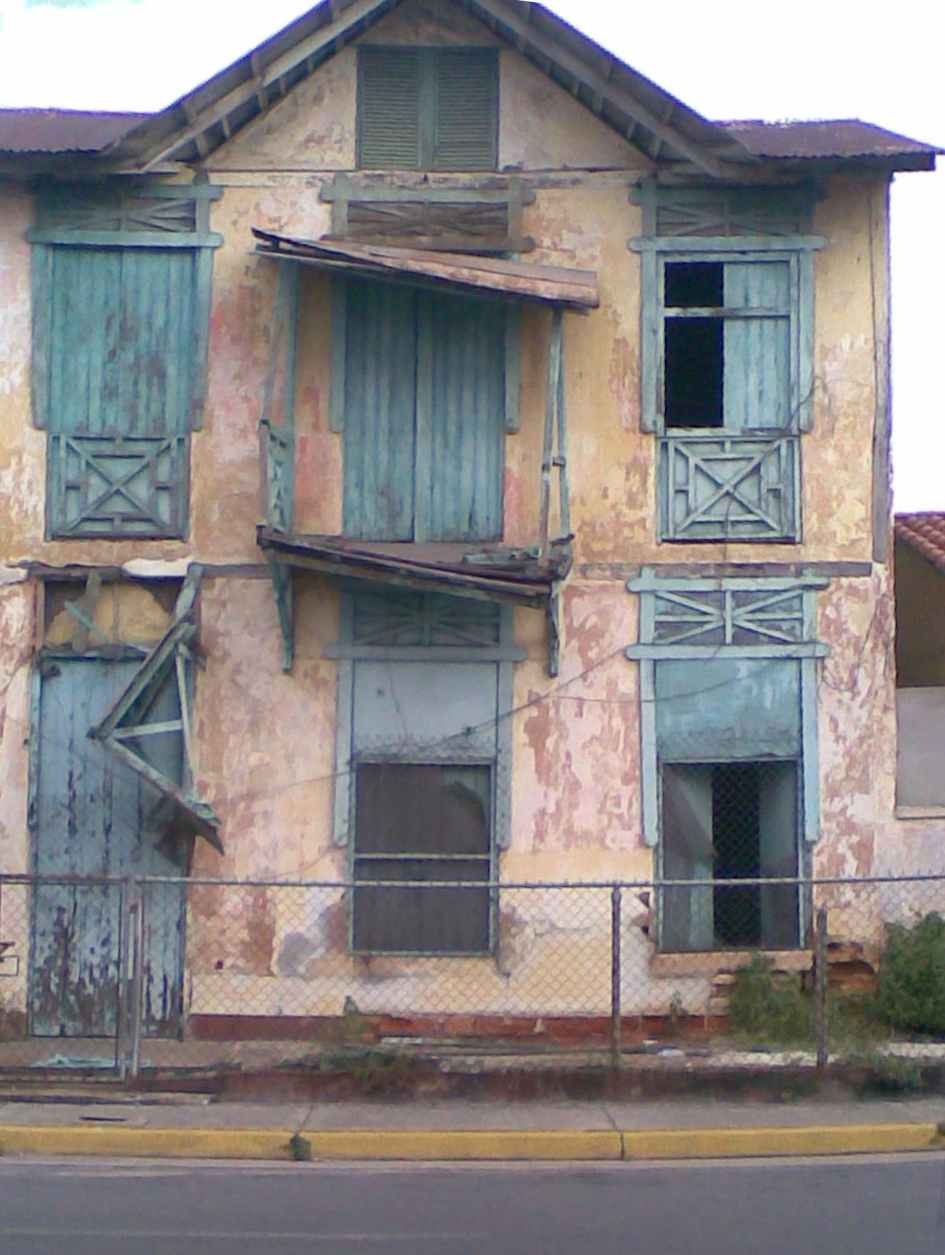House: (4, 10, 907, 1049)
